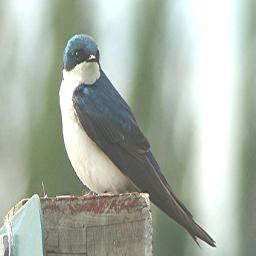Swallow: (59, 33, 217, 251)
